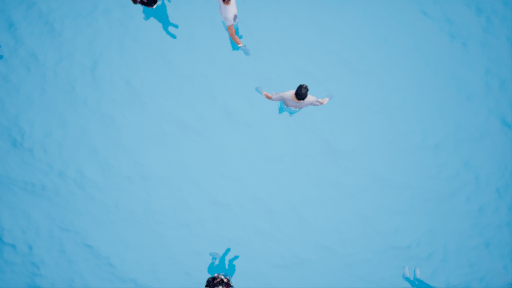person: (255, 83, 335, 122), (215, 2, 256, 60)
